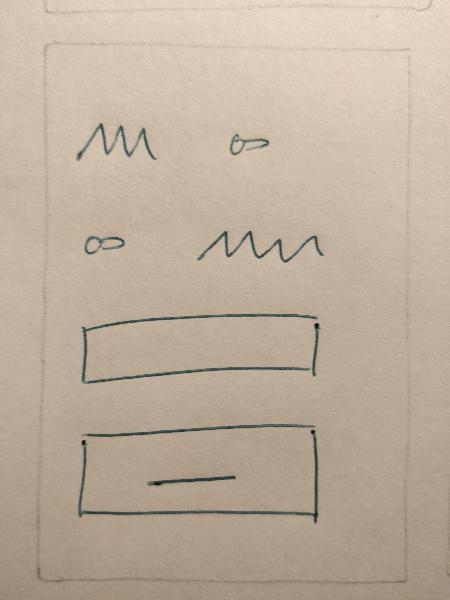button: (60, 417, 331, 528)
switch: (209, 122, 287, 162), (69, 215, 133, 261)
text: (180, 219, 337, 278), (60, 107, 164, 170)
text_input: (61, 303, 330, 383)
